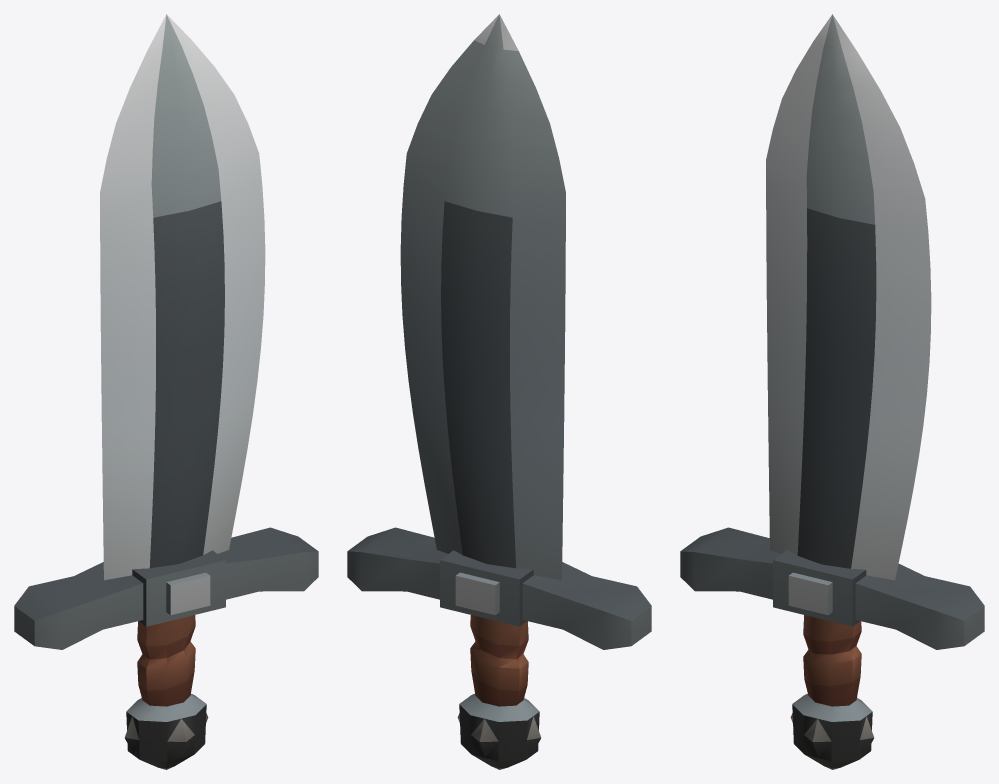
Rendered from dagger_kukri.glb.
3 renders of one model, left to right at view 1: azimuth 30°, elevation 25°; view 2: azimuth 150°, elevation 25°; view 3: azimuth 330°, elevation 25°, orthographic.
Parts seen in each view (by area): view 1: Item; view 2: Item; view 3: Item.
Boxes of the visible parts, bbox=[...] form: Item: bbox=[14, 14, 318, 769]; Item: bbox=[347, 14, 651, 769]; Item: bbox=[680, 14, 984, 769].
Size of the model in its own units: 0.48 by 1.22 by 0.14.
3 materials, 3 textured.
